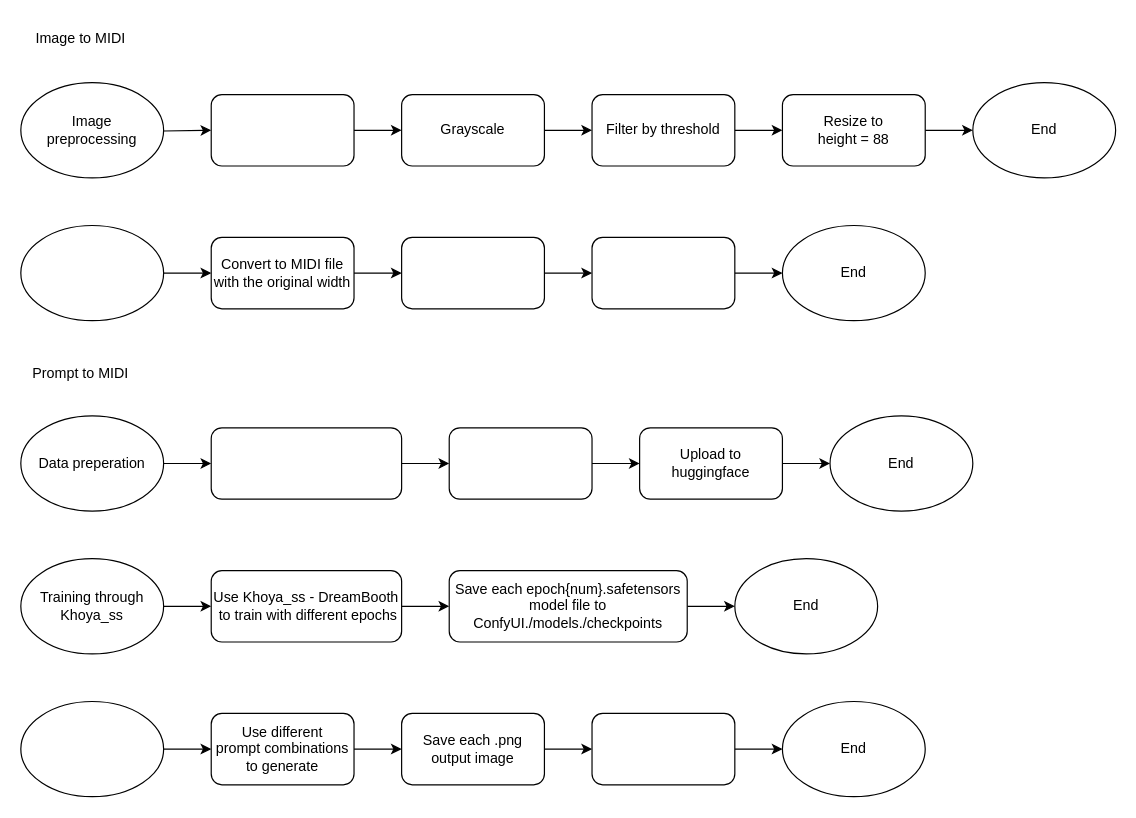
Image size: 1136x818. Some labels were removed from this diagram. The box of each missing label's shape, as (x1, y1, x2, y2) in pixels:
Convert to MIDI file with the scaled width: (591, 236, 735, 309)
Generating through ComfyUI: (20, 700, 164, 797)
MIDI conversion: (20, 224, 164, 321)
Remove background: (210, 93, 354, 166)
Run Image to MIDI convert_all(): (591, 712, 735, 785)
Run resize.py to generate four resized data: (448, 427, 592, 499)
Search images of Piano Roll and MIDI Arts to MIDI_Art./Original_size: (210, 427, 402, 499)
Transform the width by ticks to a reasonable time scale: (400, 236, 544, 309)
